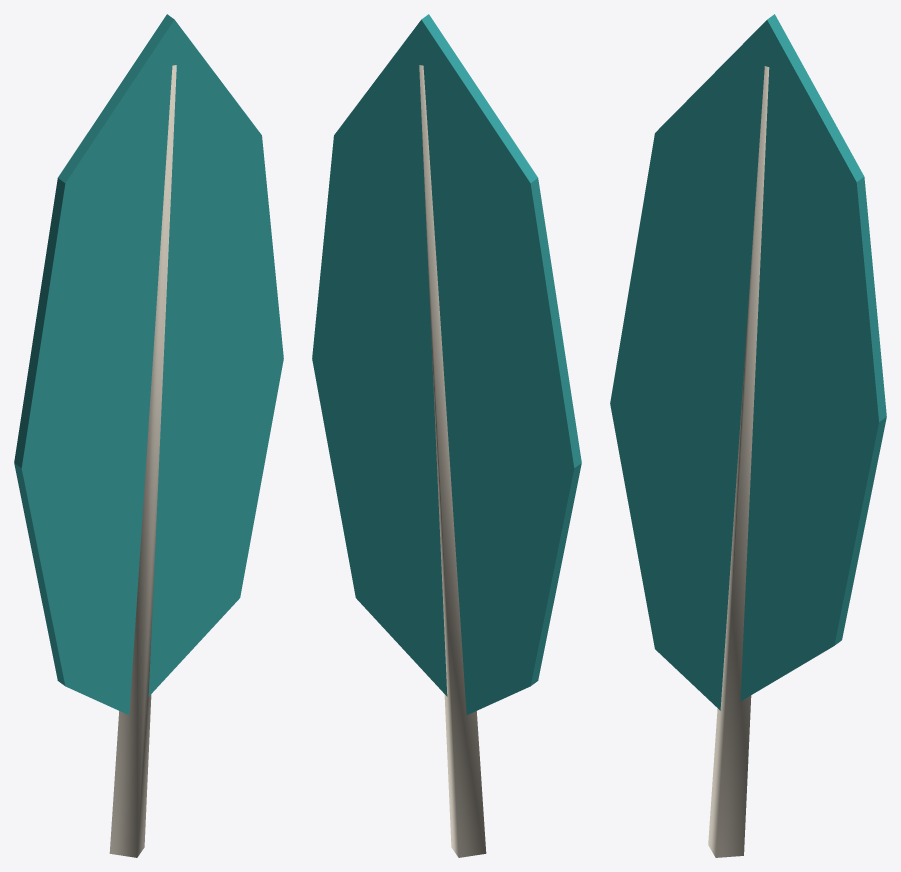
Rendered from strange_plant_2.glb.
3 renders of one model, left to right at view 1: azimuth 30°, elevation 25°; view 2: azimuth 150°, elevation 25°; view 3: azimuth 330°, elevation 25°, orthographic. The views are drawn at different scales.
Parts seen in each view (by area): view 1: strange_plant_2_v0; view 2: strange_plant_2_v0; view 3: strange_plant_2_v0.
Boxes of the visible parts, box(x1,y1,x2,y2) form: strange_plant_2_v0: box(14, 14, 283, 857); strange_plant_2_v0: box(312, 14, 581, 857); strange_plant_2_v0: box(610, 14, 886, 857).
Bounding box in the file's own units: 0.12 × 0.3605 × 0.016.
